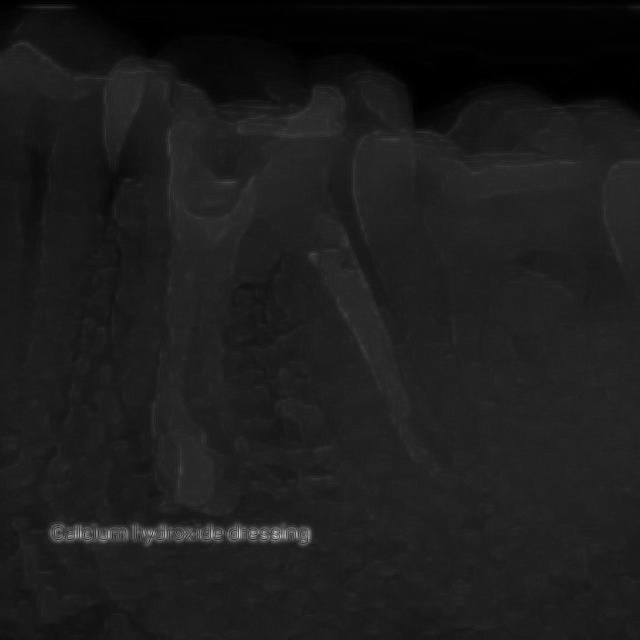Class 1- complete endodontic treatment: (106, 124, 516, 520)
